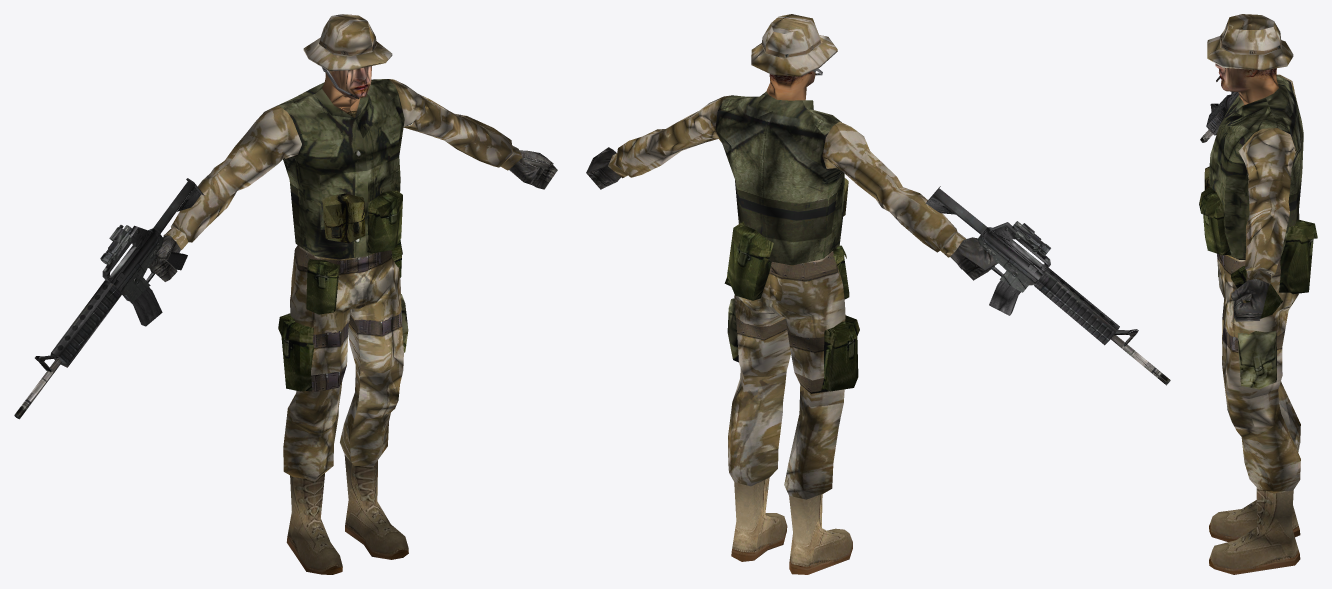
The model's file is SAS1.glb.
3 views of the same model, side by side, from view 1: azimuth 30°, elevation 25°; view 2: azimuth 150°, elevation 25°; view 3: azimuth 270°, elevation 25° (orthographic).
Visible parts, largest first — view 1: _SAS1; view 2: _SAS1; view 3: _SAS1.
Part boxes in pixels (x1,y1,x2,y2): _SAS1: [14, 14, 557, 574]; _SAS1: [586, 14, 1170, 574]; _SAS1: [1199, 14, 1317, 574].
Size of the model in its own units: 2.2 by 2.02 by 0.4071.
Materials: 4 (4 with a texture image).
